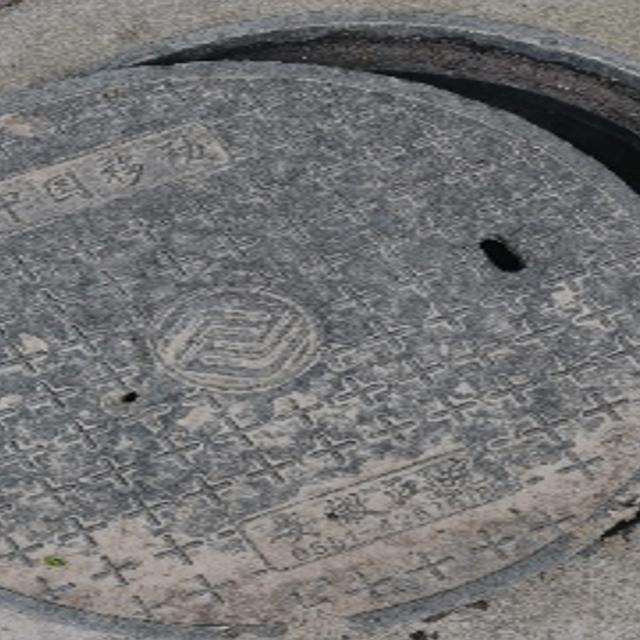uncovered: (0, 10, 640, 637)
